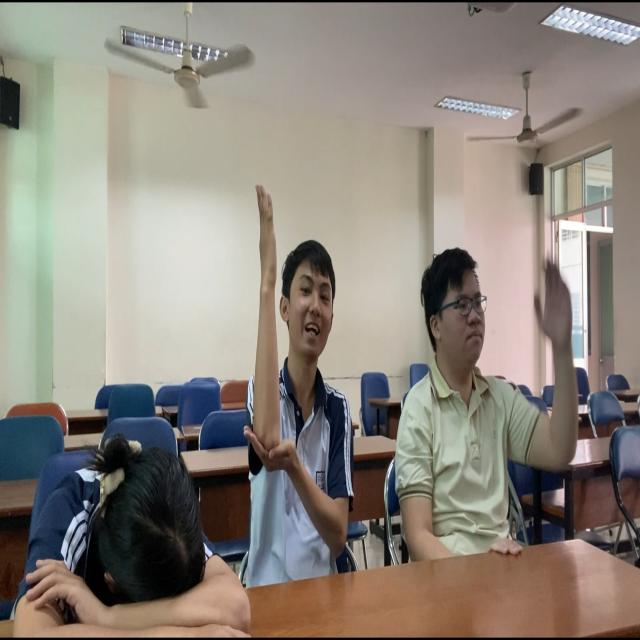raise_hand: (395, 248, 588, 557), (252, 185, 363, 586)
sleep: (1, 434, 255, 640)
